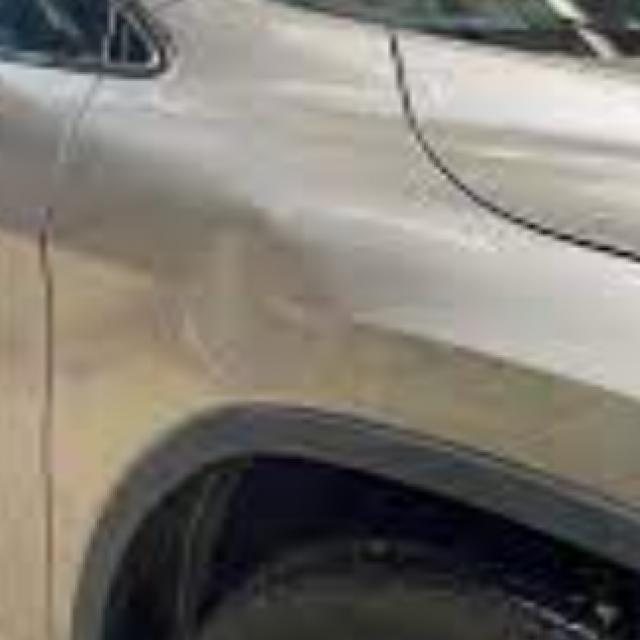dents: (182, 210, 361, 418)
